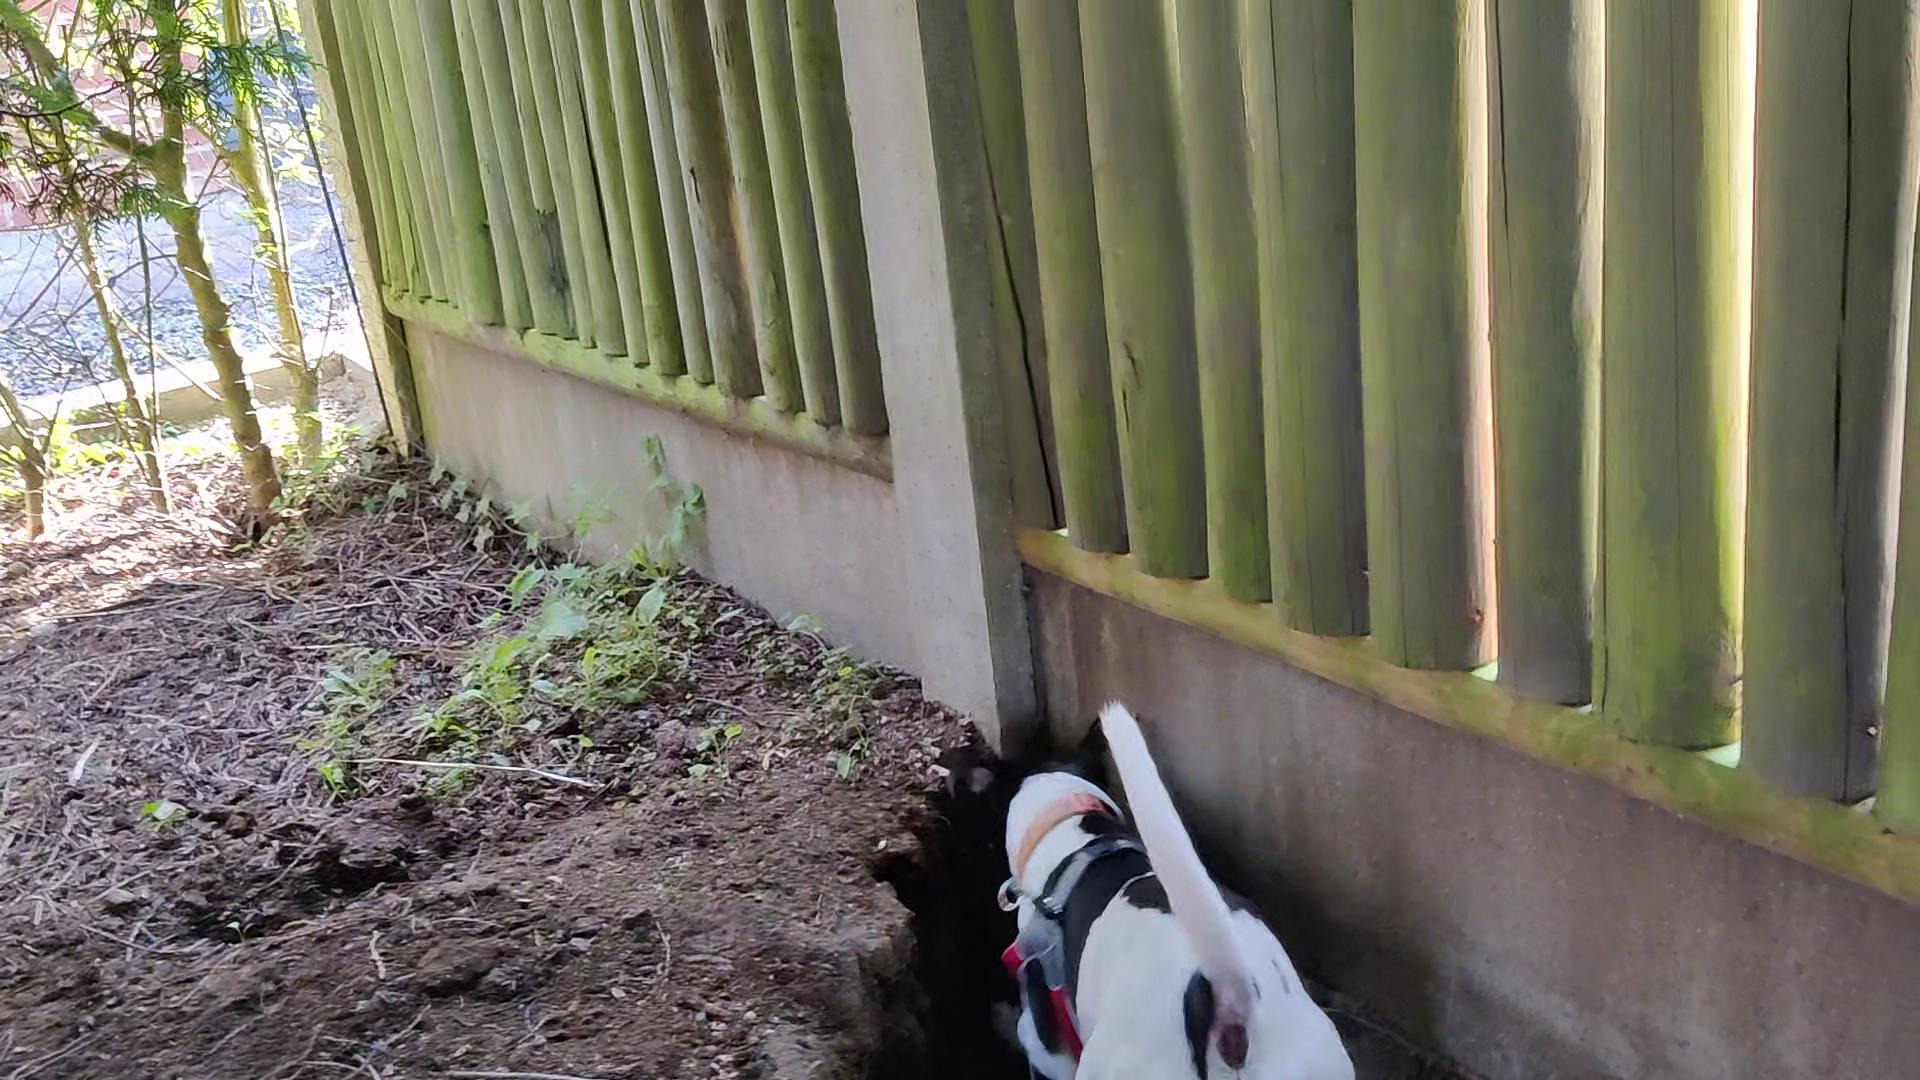Dog: (924, 671, 1367, 1079)
